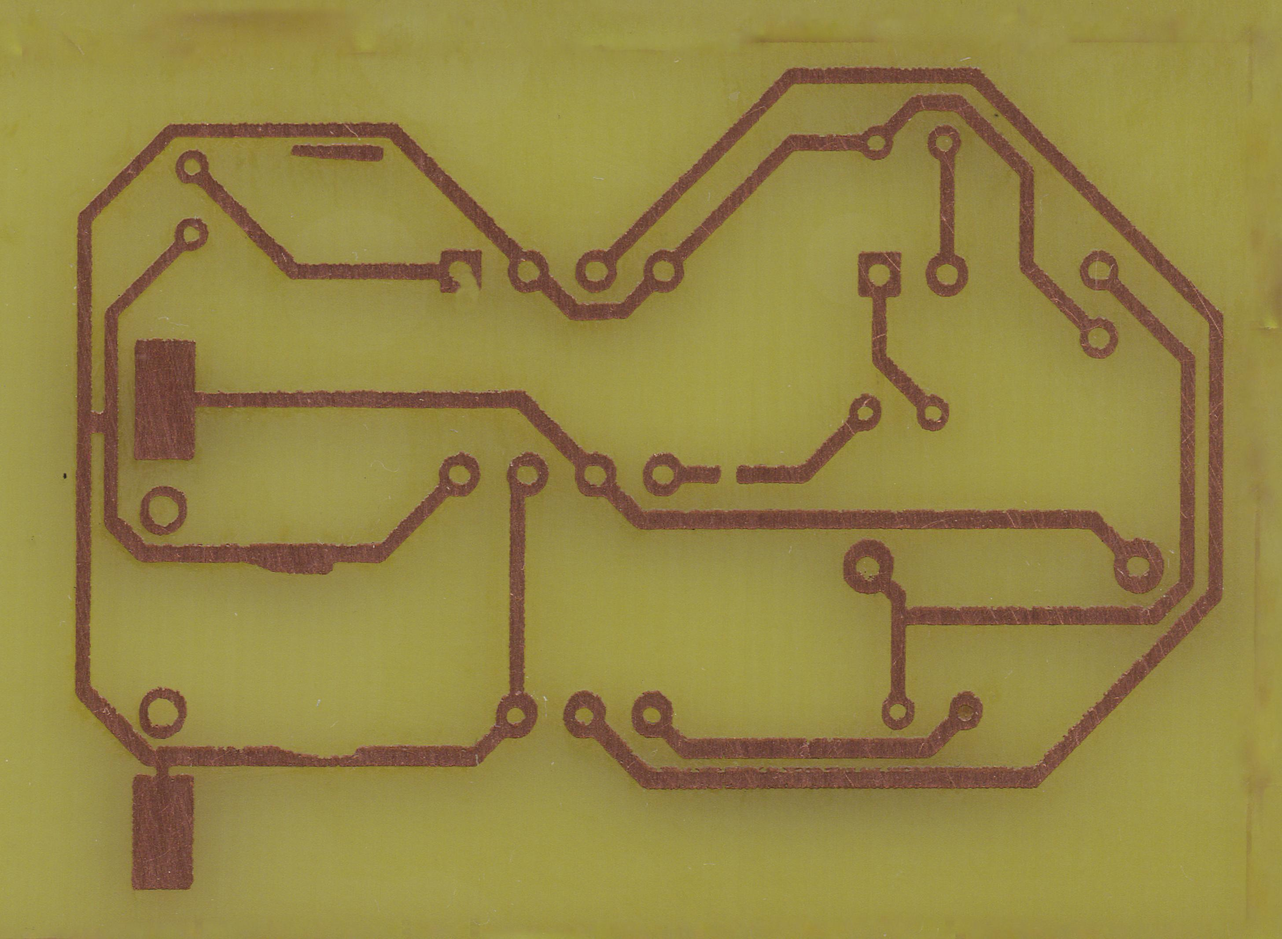missing_hole: (435, 242, 487, 300)
mouse_bite: (269, 737, 365, 773)
open_circuit: (710, 459, 749, 488)
short: (72, 397, 123, 440)
spur: (247, 537, 339, 583)
spurious_copper: (284, 139, 391, 166)
